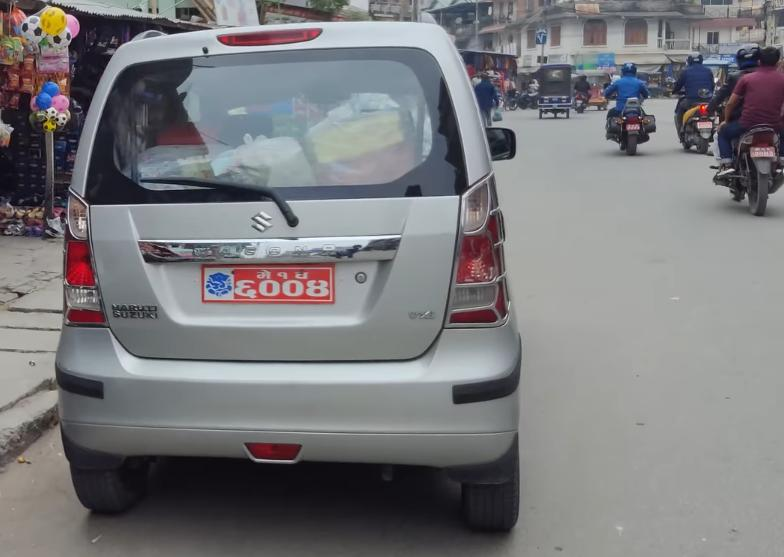bike: (718, 113, 784, 220), (604, 92, 653, 158)
car: (60, 23, 537, 551)
e-rickshaw: (539, 60, 573, 121)
scooter: (673, 87, 718, 154)
